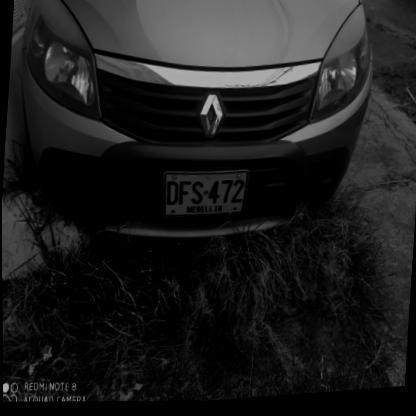placa: (157, 166, 251, 227)
